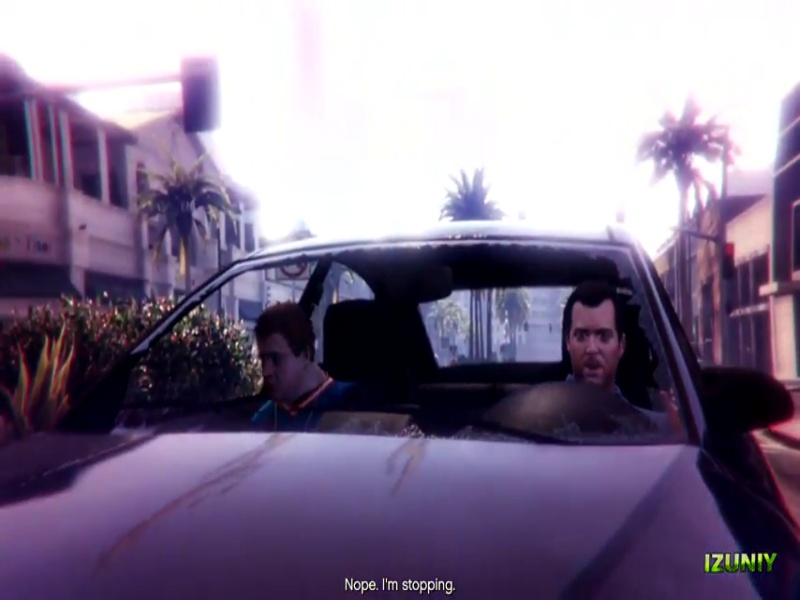licenseplate: (362, 249, 424, 299)
